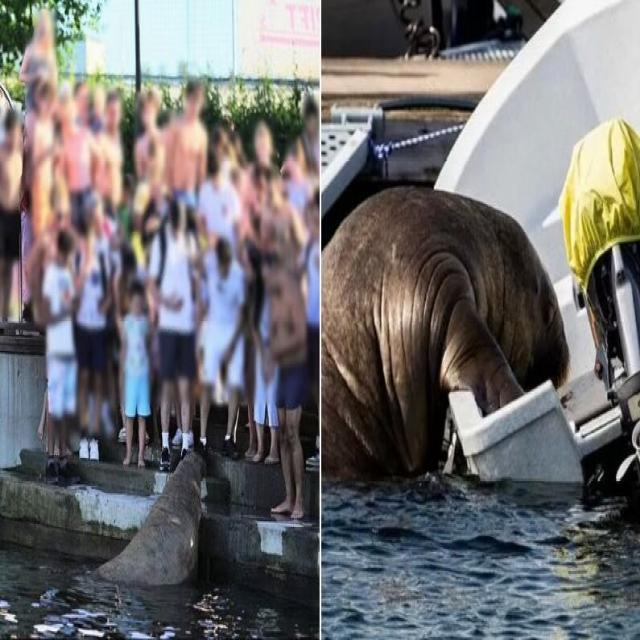walrus: (338, 172, 576, 489), (98, 450, 209, 596)
